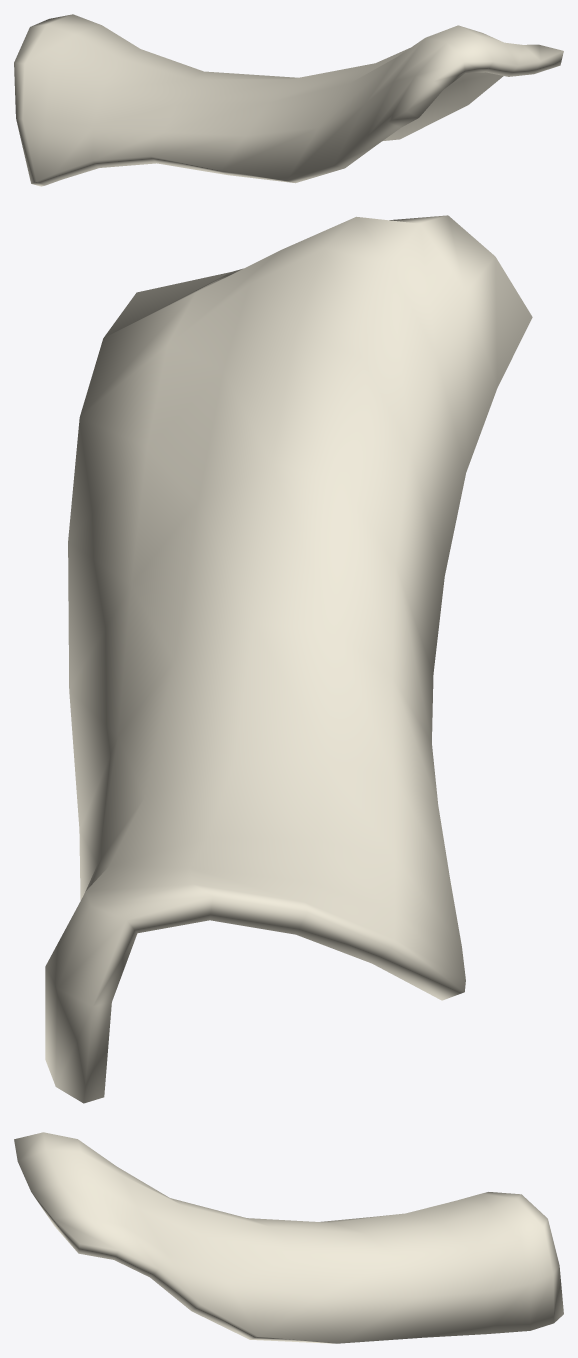
3 renders of one model, top to bottom at view 1: azimuth 30°, elevation 25°; view 2: azimuth 150°, elevation 25°; view 3: azimuth 270°, elevation 25°, orthographic. The views are drawn at different scales.
Visible parts, largest first — view 1: ZA_7de24ffe8f35230c; view 2: ZA_7de24ffe8f35230c; view 3: ZA_7de24ffe8f35230c.
Boxes of the visible parts, box(x1,y1,x2,y2) form: ZA_7de24ffe8f35230c: box(14, 14, 563, 186); ZA_7de24ffe8f35230c: box(45, 215, 532, 1103); ZA_7de24ffe8f35230c: box(14, 1132, 563, 1343).
Size of the model in its own units: 0.0135 by 0.00915 by 0.02.
